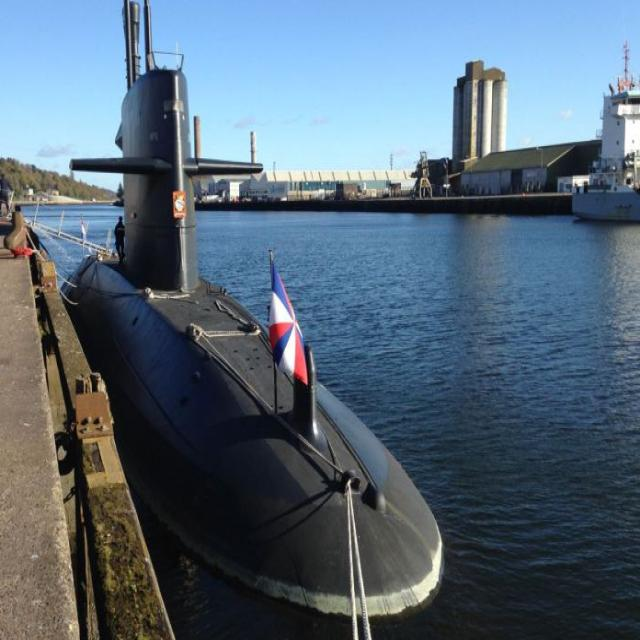submarine: (57, 1, 452, 613)
